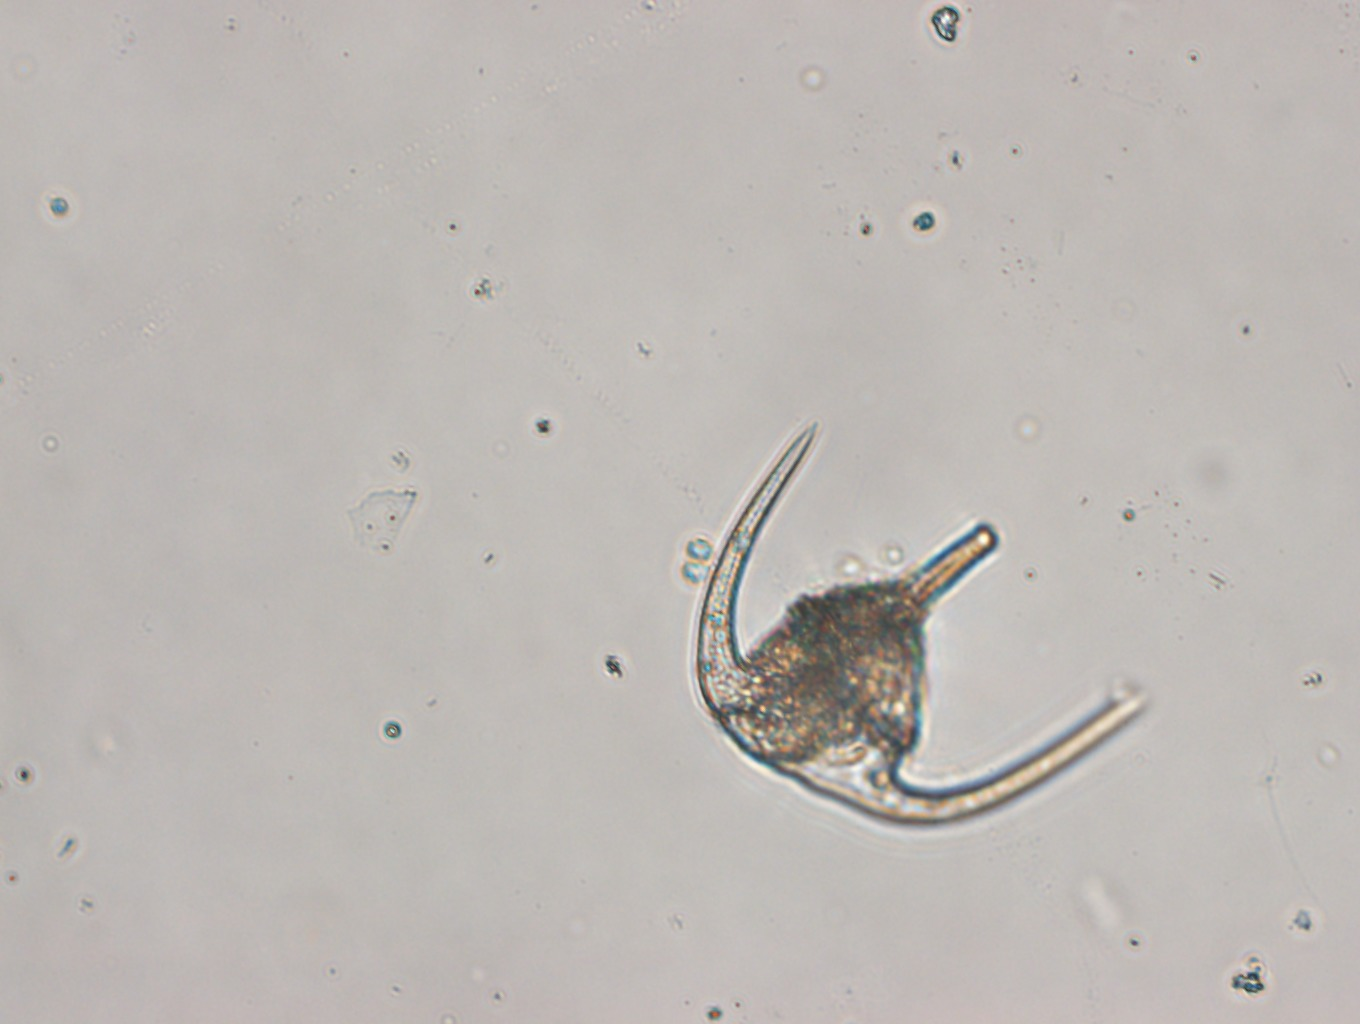ceratium tripos: (664, 406, 1158, 841)
